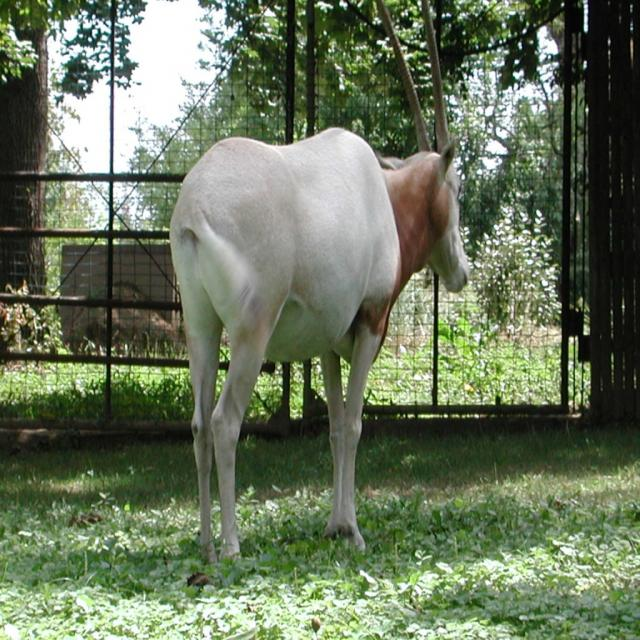Horse: (166, 122, 474, 568)
